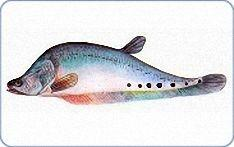Knifefish: (7, 34, 227, 107)
